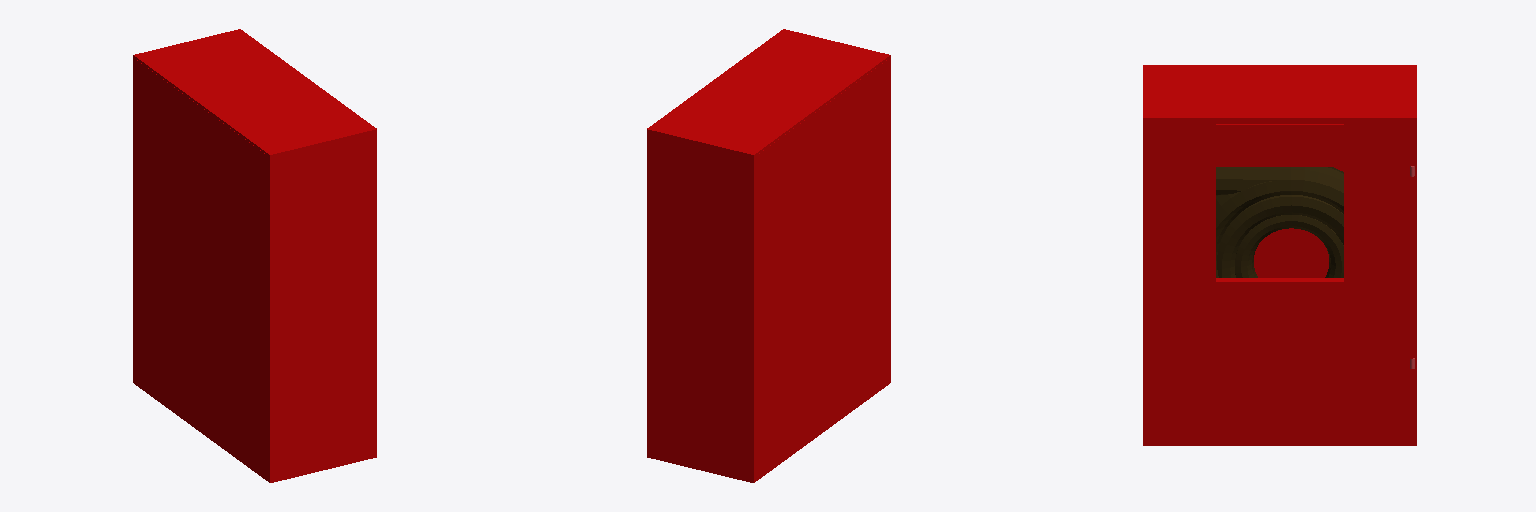
File: boxx.obj
The picture shows the model from 3 angles: view 1: azimuth 30°, elevation 25°; view 2: azimuth 150°, elevation 25°; view 3: azimuth 270°, elevation 25°; orthographic projection.
Parts seen in each view (by area): view 1: Cube.004_Cube.005, Cube_Cube.001, Cube.001_Cube.002, Cube.003_Cube.004; view 2: Cube.004_Cube.005, Cube.003_Cube.004, Cube.001_Cube.002, Cube_Cube.001; view 3: Cube.005_Cube.006, Cube.001_Cube.002, Cube.007_Cube.008, Cube.006_Cube.007, Cube.008_Cube.009, Torus, Torus.001, Cube.004_Cube.005, Torus.002, Cube_Cube.001, Cube.003_Cube.004, Cube.002_Cube.003.
Part boxes in pixels (x1,y1,x2,y2): Cube.004_Cube.005: (136, 60, 267, 477); Cube_Cube.001: (266, 126, 376, 482); Cube.001_Cube.002: (136, 32, 374, 155); Cube.003_Cube.004: (133, 29, 243, 384); Cube.004_Cube.005: (756, 60, 887, 477); Cube.003_Cube.004: (647, 128, 757, 482); Cube.001_Cube.002: (649, 32, 887, 155); Cube_Cube.001: (780, 29, 890, 385); Cube.005_Cube.006: (1147, 278, 1412, 441); Cube.001_Cube.002: (1147, 65, 1412, 125); Cube.007_Cube.008: (1148, 124, 1215, 281); Cube.006_Cube.007: (1344, 124, 1411, 281); Cube.008_Cube.009: (1215, 124, 1343, 166); Torus: (1216, 167, 1343, 277); Torus.001: (1217, 195, 1343, 277); Cube.004_Cube.005: (1254, 167, 1343, 277); Torus.002: (1235, 215, 1343, 277); Cube_Cube.001: (1143, 65, 1151, 445); Cube.003_Cube.004: (1408, 65, 1416, 445); Cube.002_Cube.003: (1152, 442, 1412, 445).
Bounding box in the file's own units: 1.42 × 4.1 × 3.1.